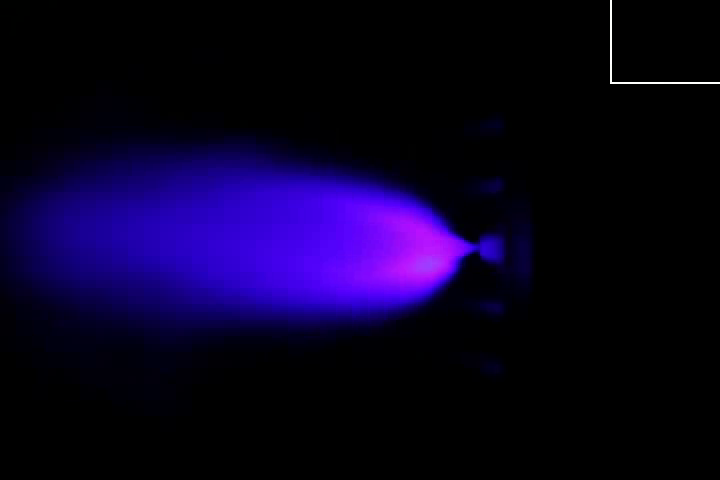burner cap: (477, 231, 508, 269)
stable: (326, 195, 475, 302)
